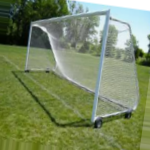goals: (25, 8, 141, 124)
